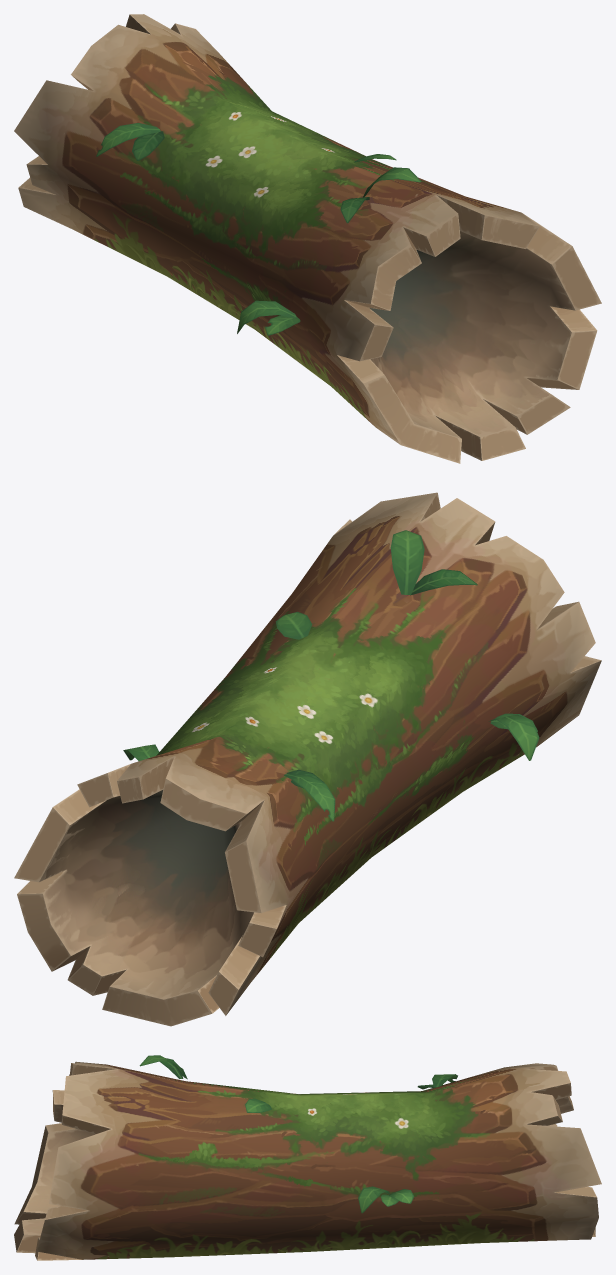
File: Na_Log_01.FBX
3 views of the same model, one above another, from view 1: azimuth 30°, elevation 25°; view 2: azimuth 150°, elevation 25°; view 3: azimuth 270°, elevation 25° (orthographic). The views are drawn at different scales.
Parts seen in each view (by area): view 1: Na_Log_01; view 2: Na_Log_01; view 3: Na_Log_01.
Part boxes in pixels (<box>): Na_Log_01: <box>14,14,601,463</box>; Na_Log_01: <box>14,492,601,1026</box>; Na_Log_01: <box>14,1055,601,1260</box>.
Size of the model in its own units: 2.1 by 1.64 by 4.87.
1 material, 1 textured.
